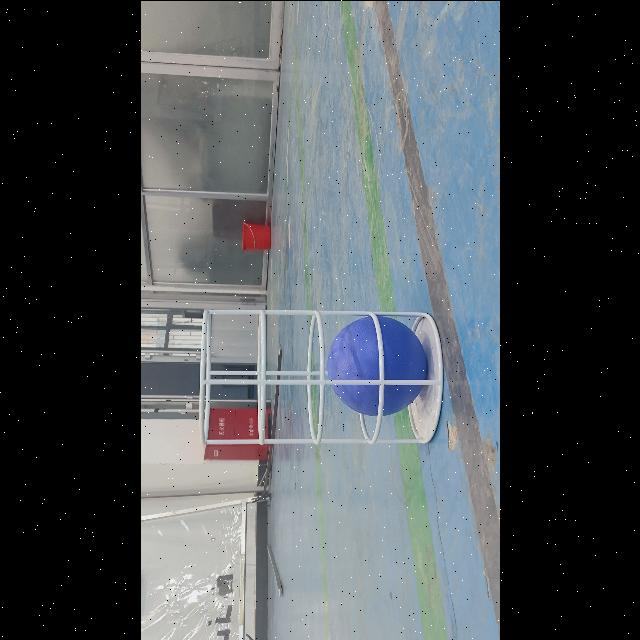B: (326, 315, 428, 415)
S: (192, 302, 454, 452)
